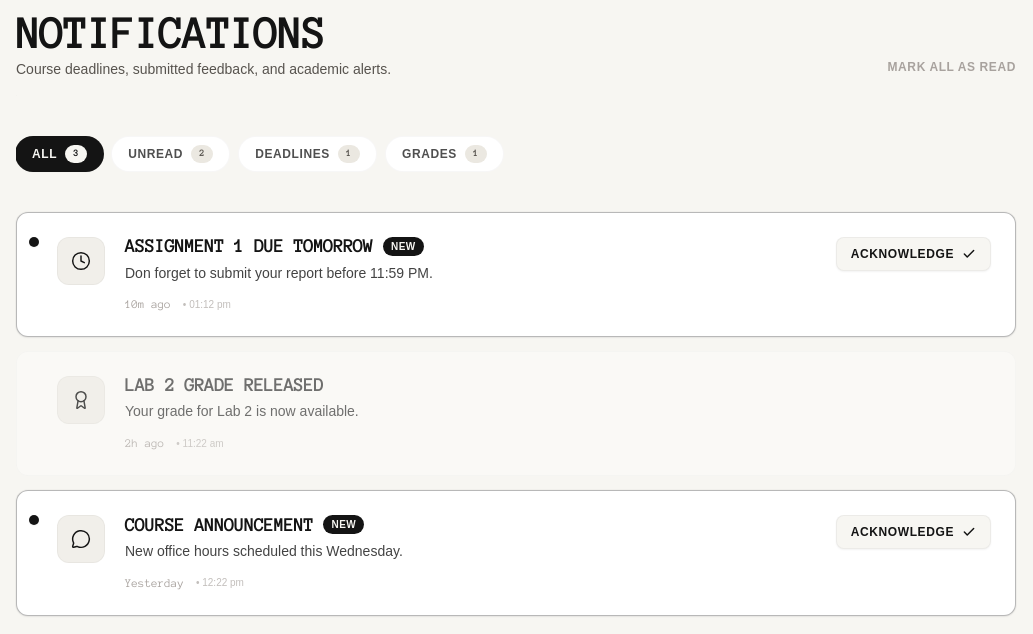
Test: NotificationsPage component › filters notifications when clicking category tabs
Expected: the heading "Assignment 1 Due Tomorrow" is shown, [125, 237, 373, 255]
// Click Unread tab
Step 1. Click the tab "Unread 2" → click(171, 154), box [111, 136, 230, 172]
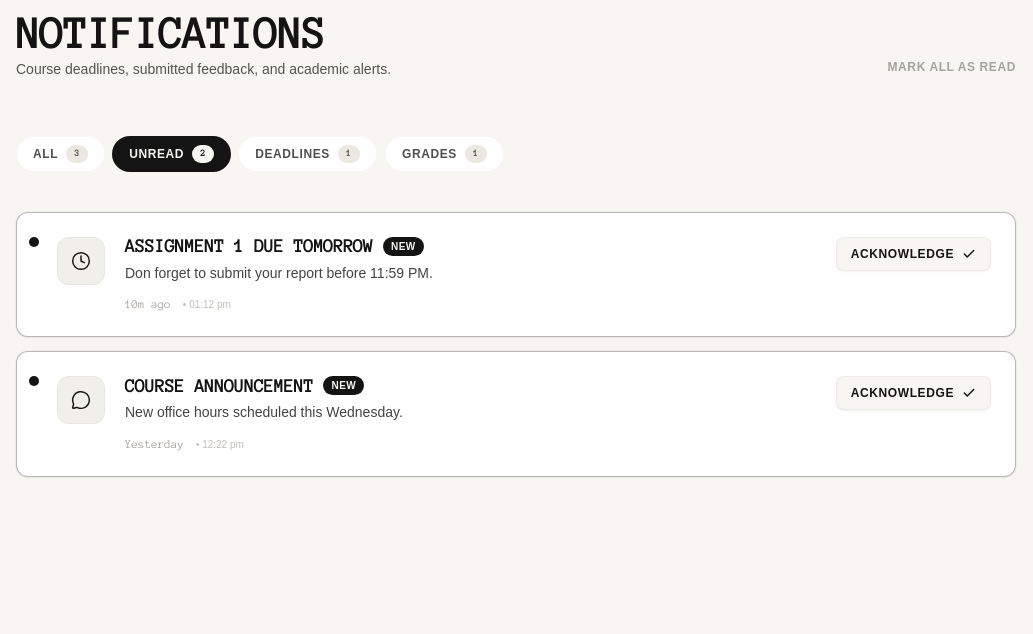
Expected: the heading "Assignment 1 Due Tomorrow" is shown, [125, 237, 373, 255]
Result: the heading "Lab 2 Grade Released" is gone
// Click Grades tab
Step 2. Click the tab "Grades 1" → click(444, 154), box [385, 136, 504, 172]
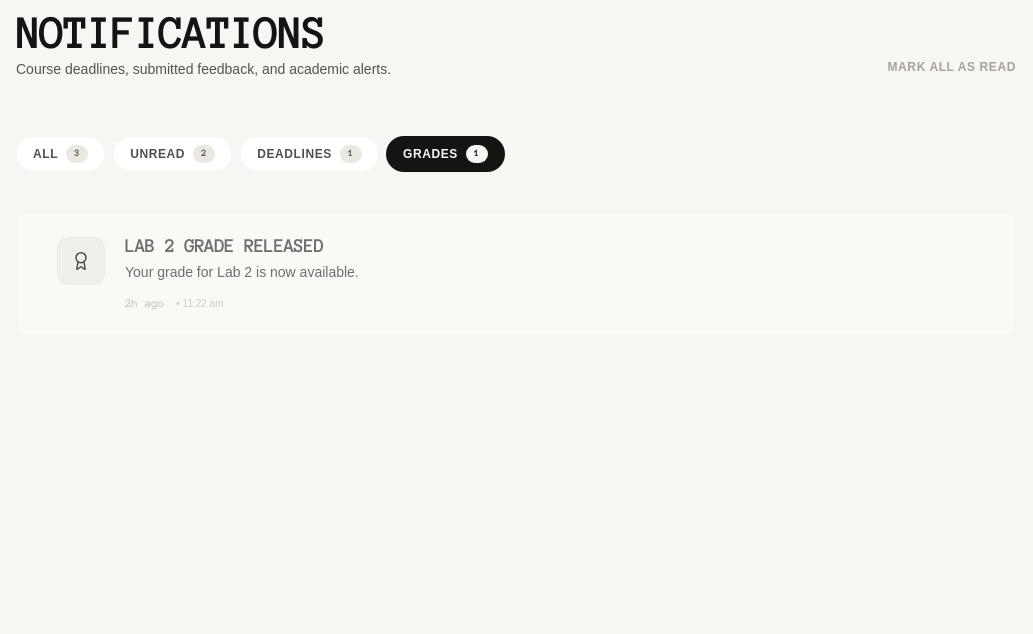
Result: the heading "Lab 2 Grade Released" is shown at [125, 236, 323, 254]
Result: the heading "Assignment 1 Due Tomorrow" is gone
